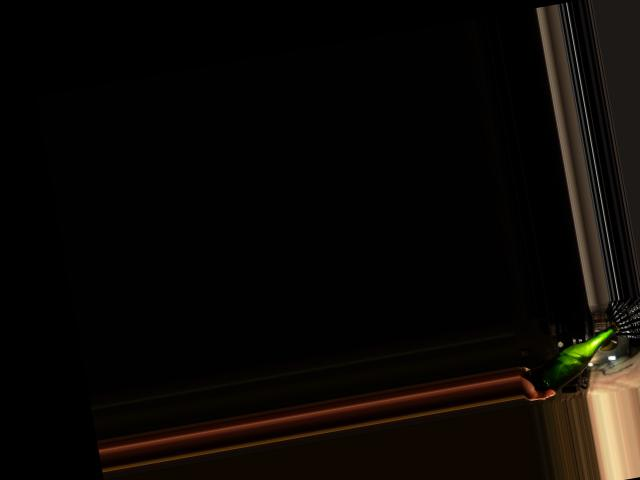beer: (522, 321, 628, 397)
